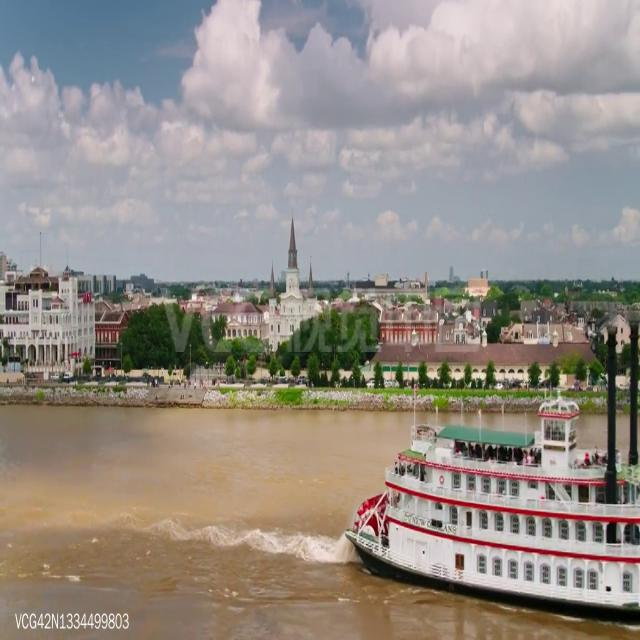passenger ship: (343, 383, 640, 623)
